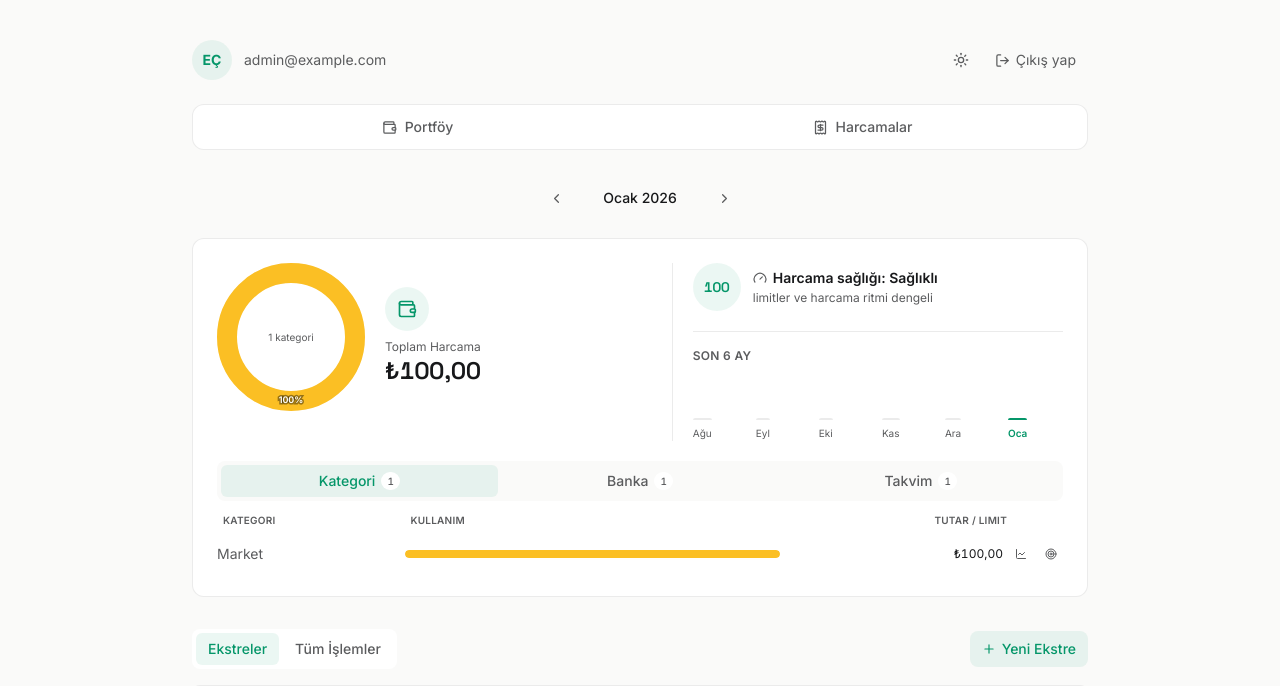
Test: Statements › serves the calendar tab's transactions from the cache the transactions view already populated
Expected: the text "Market" is shown, [217,545,263,562]
Click the button "Tüm İşlemler" at [338, 649], box [283,633,393,665]
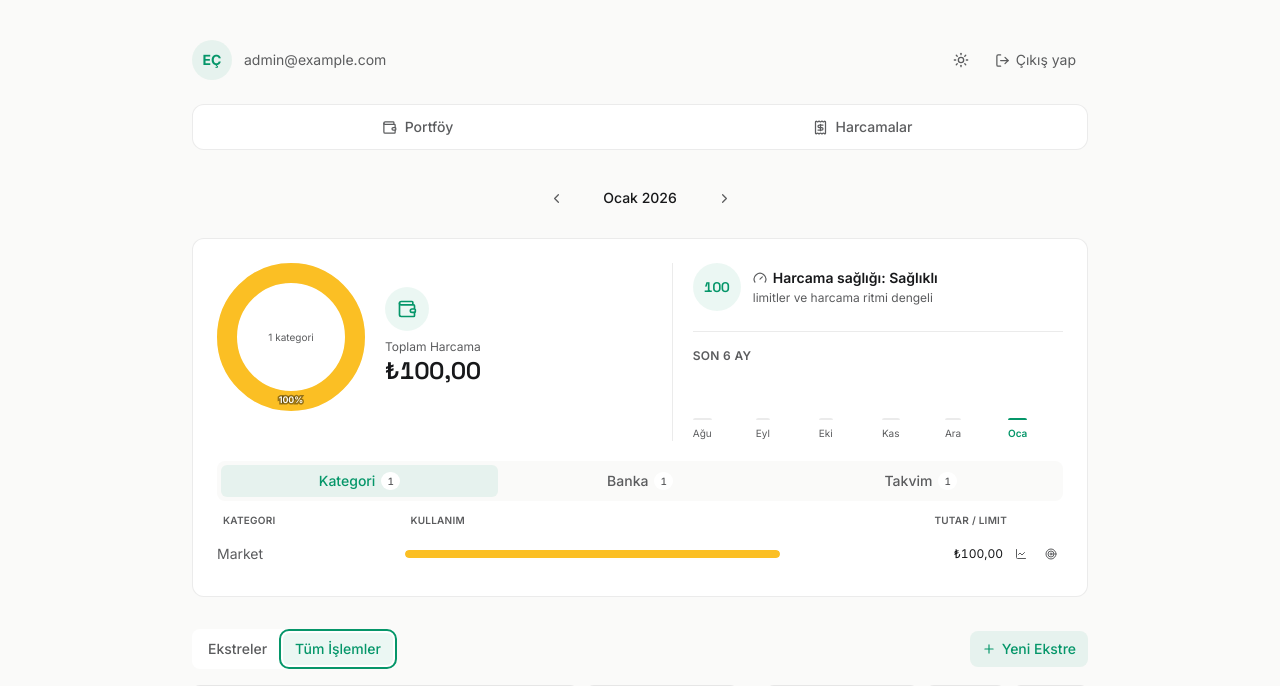
Click the button "Takvim 1" at [921, 481], box [782,465,1059,497]
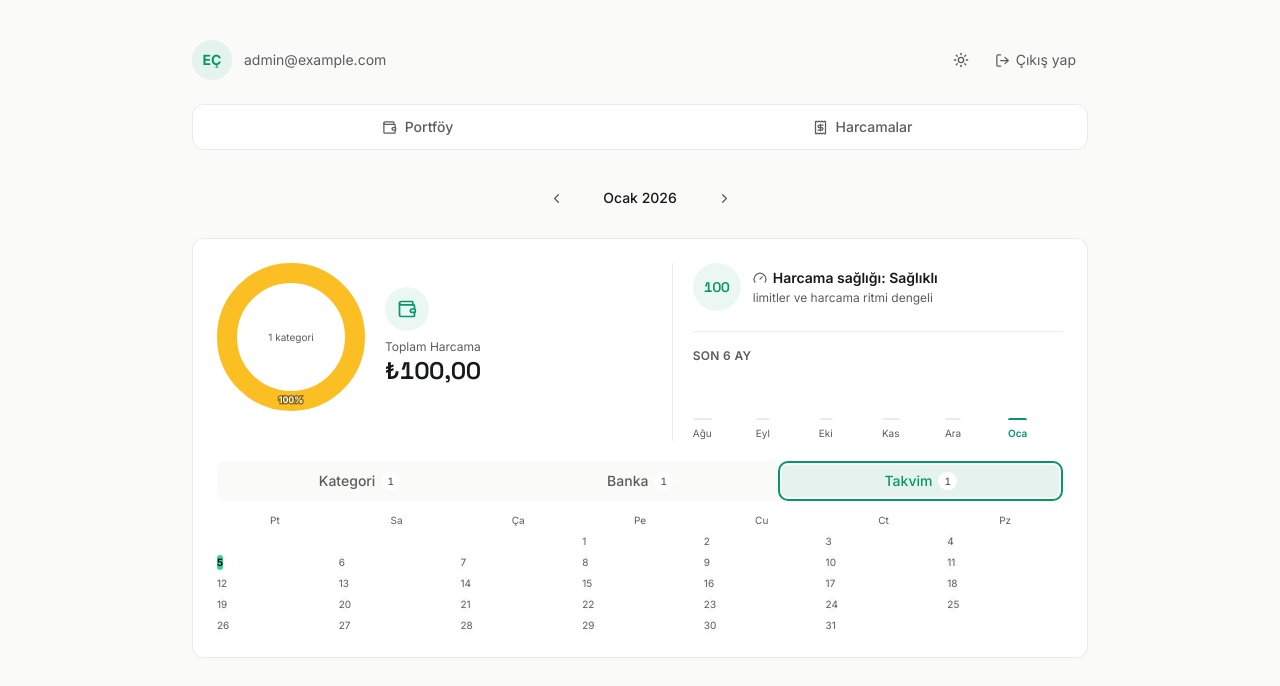
Expected: the text "Pt" is shown, [270,514,280,526]
